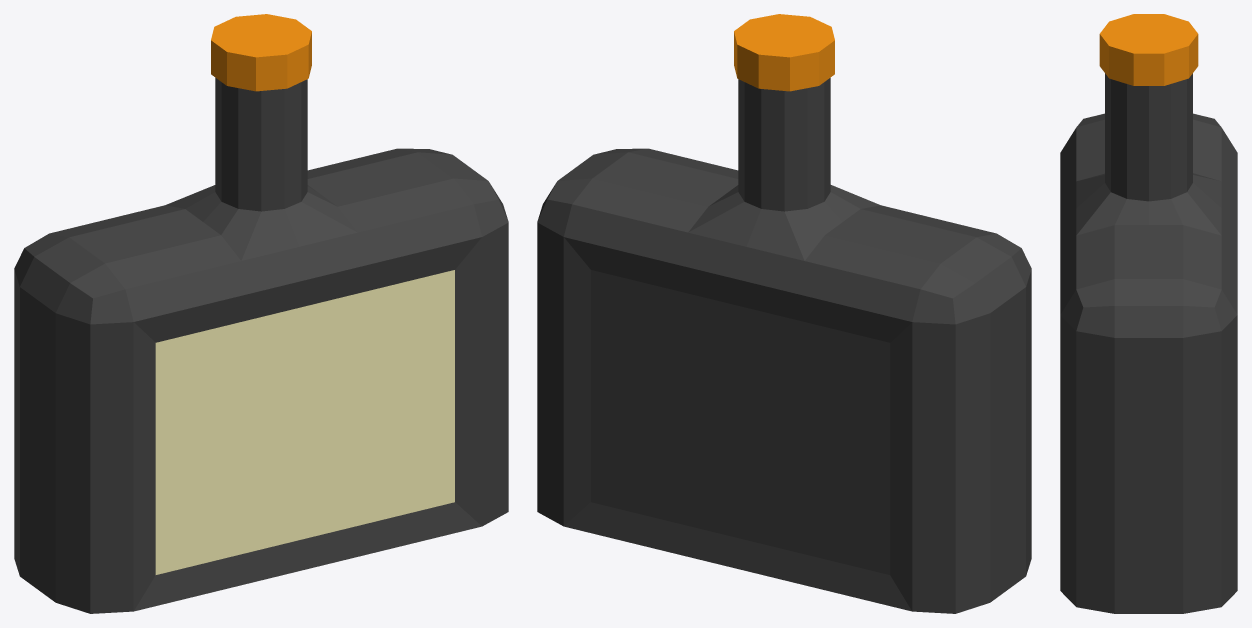
Rendered from bottle5.fbx.
3 renders of one model, left to right at view 1: azimuth 30°, elevation 25°; view 2: azimuth 150°, elevation 25°; view 3: azimuth 270°, elevation 25°, orthographic. The views are drawn at different scales.
Visible parts, largest first — view 1: bottle5; view 2: bottle5; view 3: bottle5.
Part boxes in pixels (x1,y1,x2,y2): bottle5: (14,14,508,613); bottle5: (537,14,1031,613); bottle5: (1060,14,1237,613).
Bounding box in the file's own units: 10 × 10.67 × 3.6.
